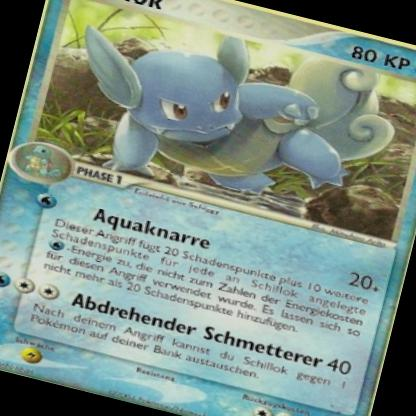Wartortle: (66, 4, 392, 229)
